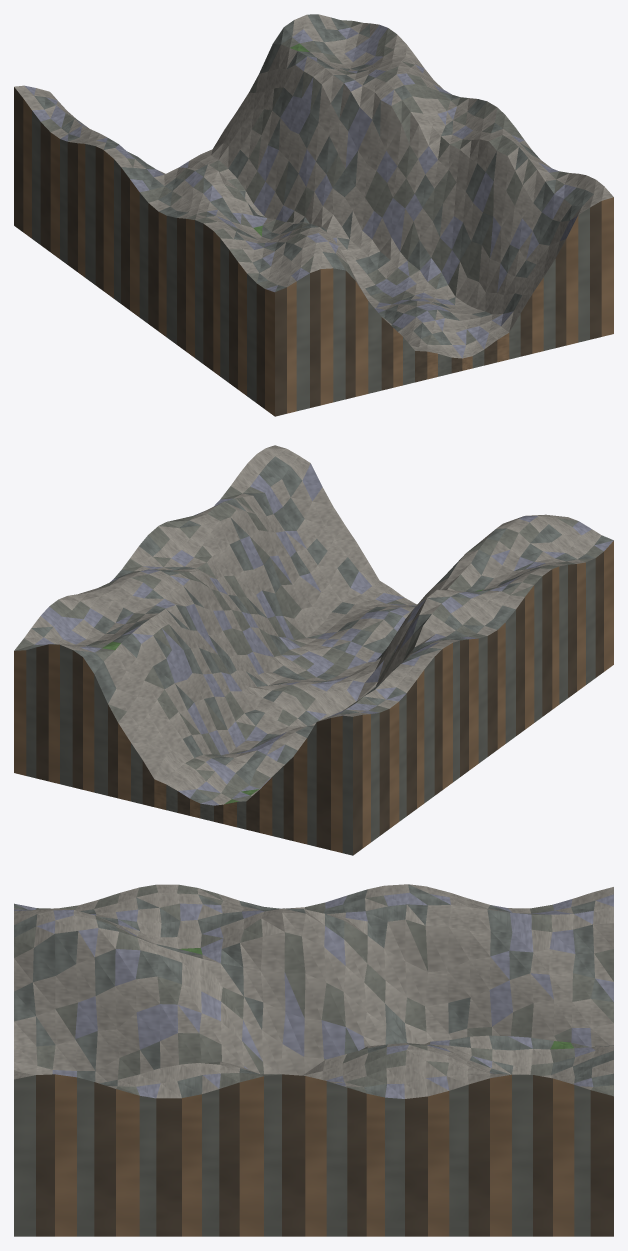
Rendered from canyon_segment.fbx.
3 views of the same model, one above another, from view 1: azimuth 30°, elevation 25°; view 2: azimuth 150°, elevation 25°; view 3: azimuth 270°, elevation 25° (orthographic). The views are drawn at different scales.
Parts seen in each view (by area): view 1: canyon_segment; view 2: canyon_segment; view 3: canyon_segment.
Part boxes in pixels (box(x1,y1,x2,y2)): canyon_segment: box(14, 14, 613, 416); canyon_segment: box(14, 445, 613, 855); canyon_segment: box(14, 884, 613, 1236).
Bounding box in the file's own units: 3000 × 1250 × 4000.
1 material, 1 textured.
